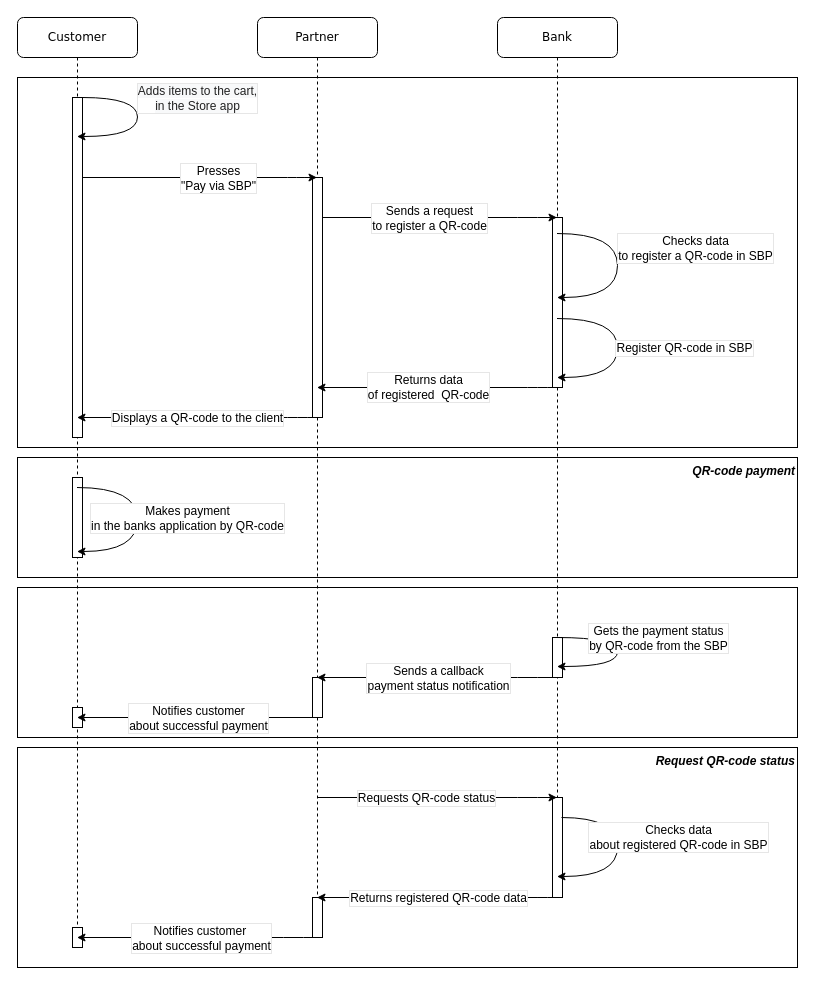
This 815x985 diagram has some shape labels left out. Each missing label, with the centre of its shape:
QR-code generation: the point at 407,262
QR-code status notification: the point at 407,662
